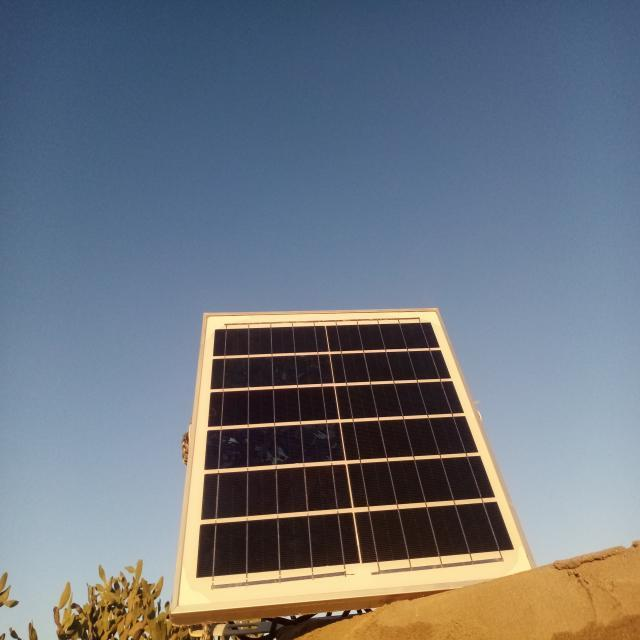no faulty: (173, 306, 532, 608)
